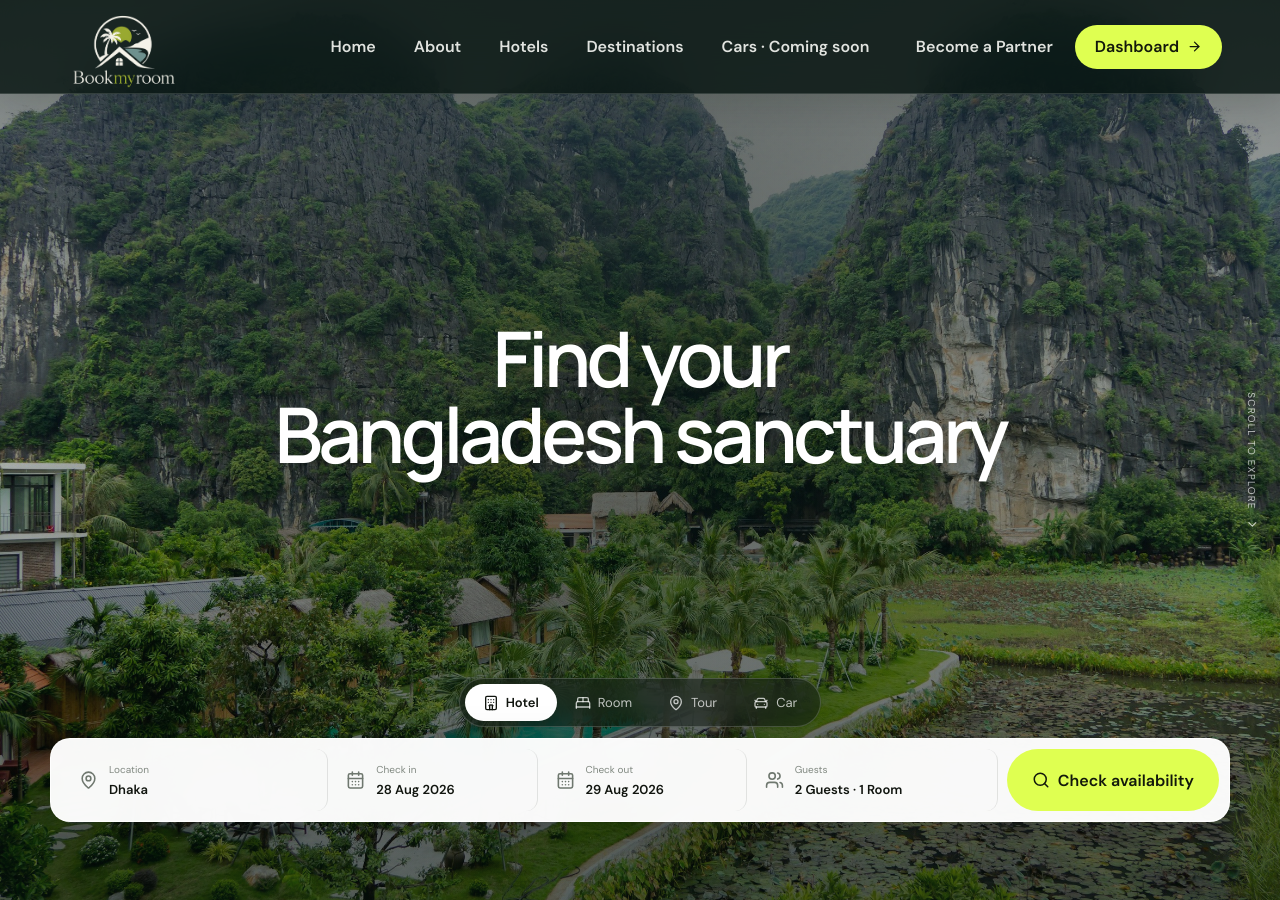
homepage baseline › keeps the stay search selectors interactive
Click the button "Location Dhaka" at (129, 769), box [61, 749, 328, 811]
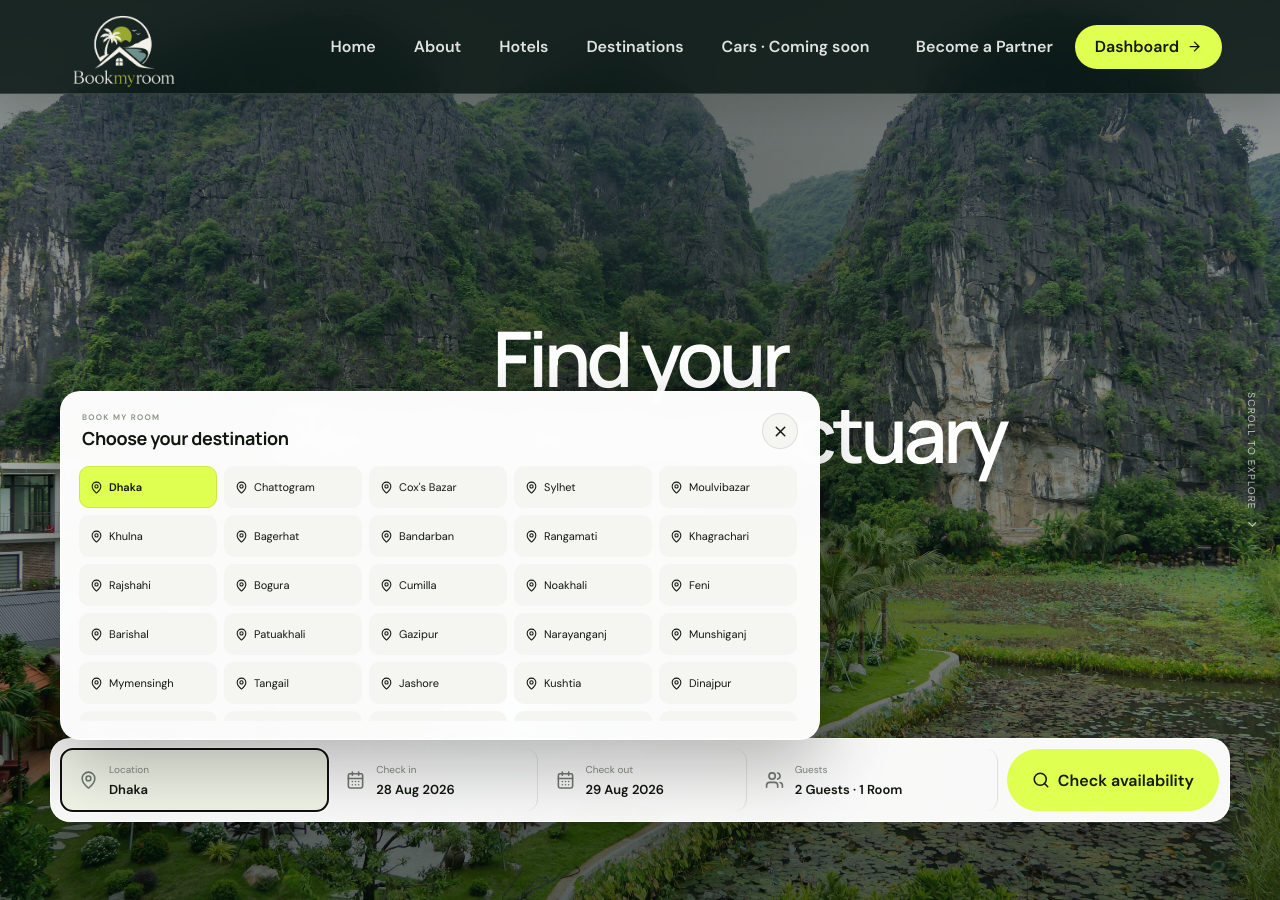
Click the button "Sylhet" at (583, 487), box [514, 466, 652, 508]
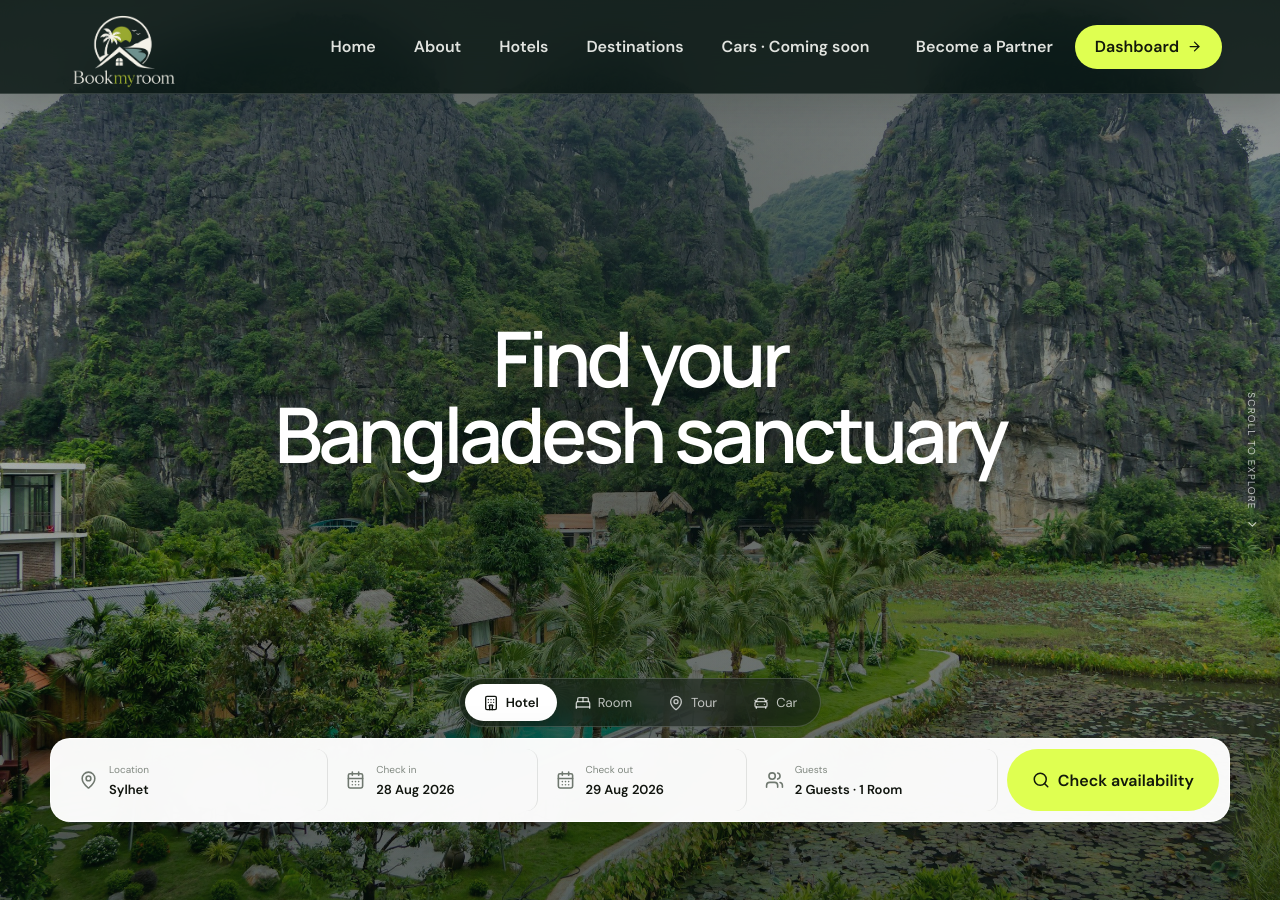
Result: the button "Location Sylhet" is shown at [61, 749, 328, 811]
